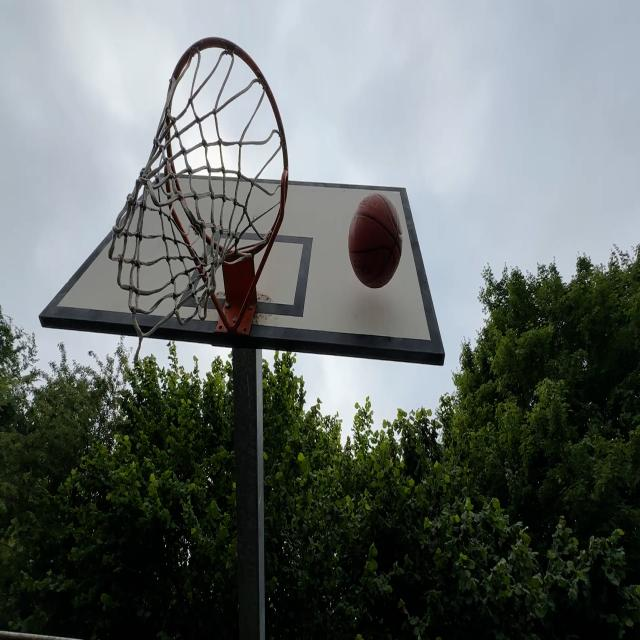Basketball: (347, 192, 404, 290)
